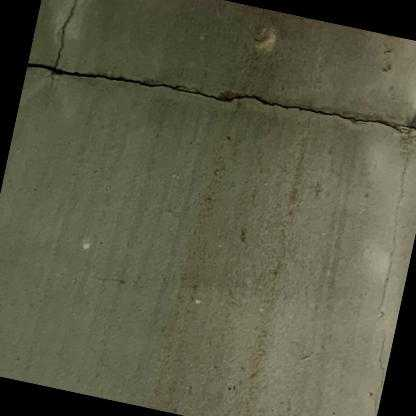crack: (24, 55, 416, 416)
